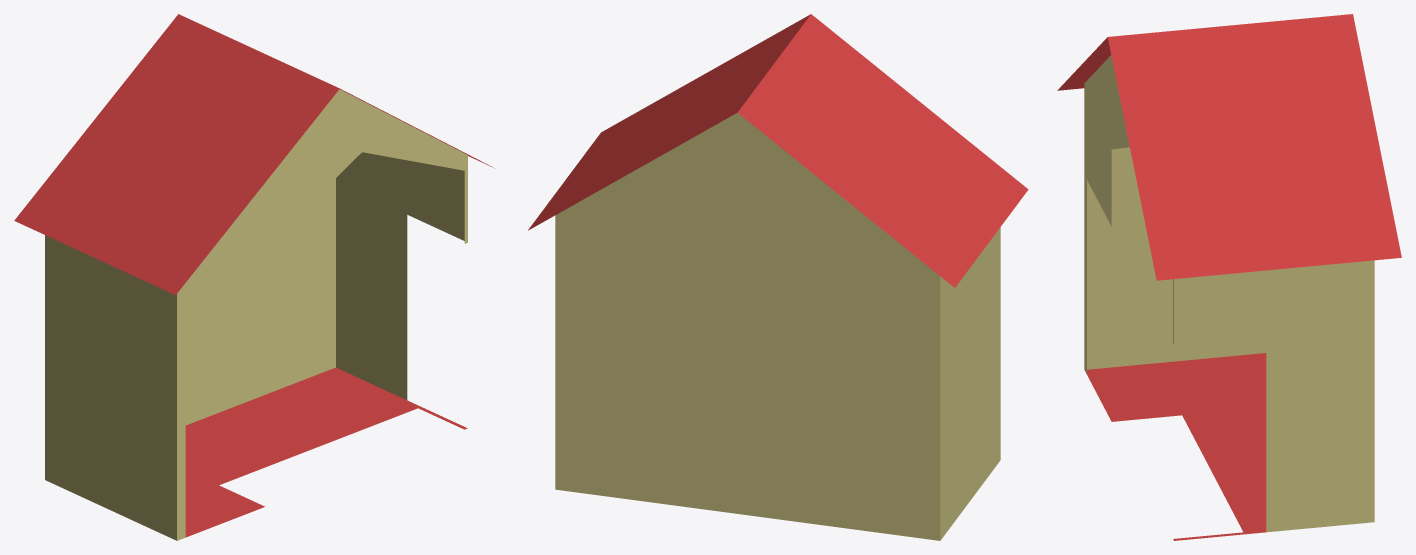
3 renders of one model, left to right at view 1: azimuth 30°, elevation 25°; view 2: azimuth 150°, elevation 25°; view 3: azimuth 270°, elevation 25°, orthographic. The views are drawn at different scales.
Size of the model in its own units: 16.45 by 11.26 by 15.21.
